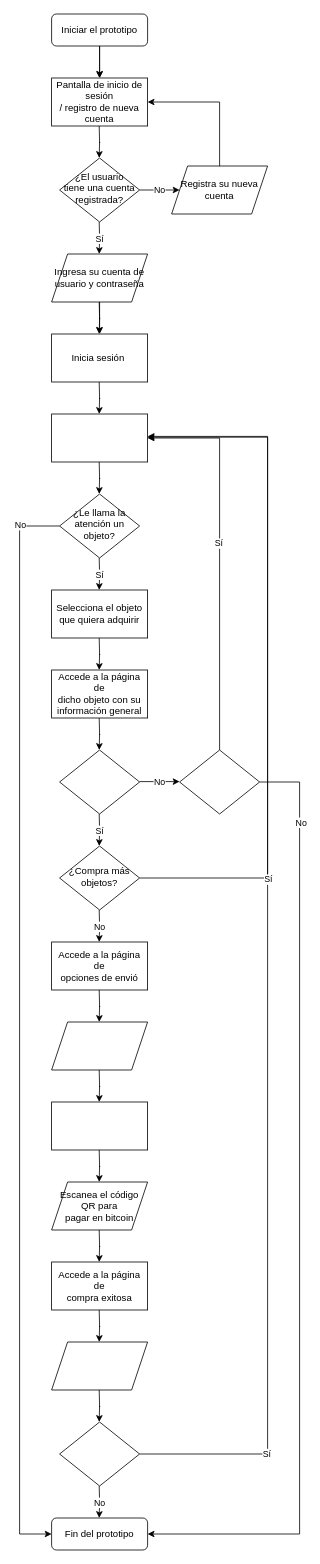
Image size: 320x1564. Some labels were removed from this diagram. The shapes that lost their labels are listed below. From the top down, each one's centre as x and y in pixels, then its label:
[99,437]: Revisa el catálogo de objetos en venta
[99,781]: ¿Compra el objeto?
[219,781]: ¿Va a seguir viendo el catálogo?
[99,1045]: Selecciona la forma de envió
[99,1125]: Accede a la página de opciones de pago
[99,1365]: Muestra en pantalla el ticket de compra
[99,1453]: ¿Seguirá comprando?
